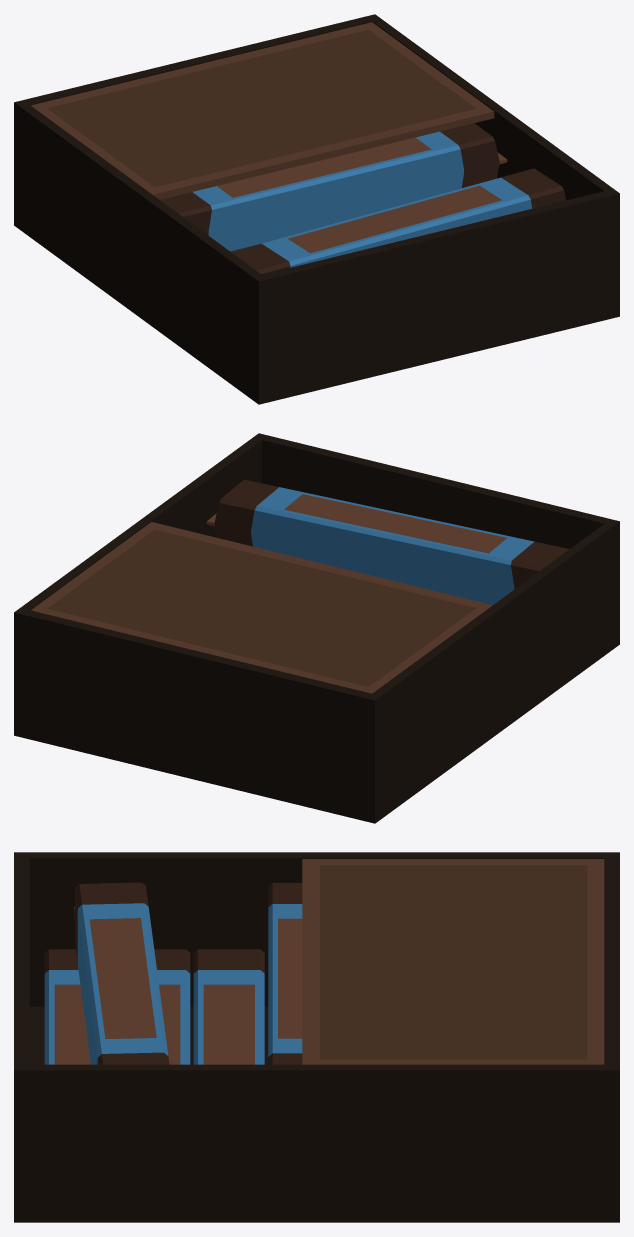
File: Box Of Chocolate Bars #2.fbx
The picture shows the model from 3 angles, top to bottom: view 1: azimuth 30°, elevation 25°; view 2: azimuth 150°, elevation 25°; view 3: azimuth 270°, elevation 25°; orthographic projection. The views are drawn at different scales.
Parts seen in each view (by area): view 1: Box Of Chocolate Bars #2; view 2: Box Of Chocolate Bars #2; view 3: Box Of Chocolate Bars #2.
Part boxes in pixels (x1,y1,x2,y2): Box Of Chocolate Bars #2: (14, 14, 619, 404); Box Of Chocolate Bars #2: (14, 433, 619, 823); Box Of Chocolate Bars #2: (14, 852, 619, 1222).
Size of the model in its own units: 46.39 by 15.12 by 54.48.
Materials: 1 (1 with a texture image).
